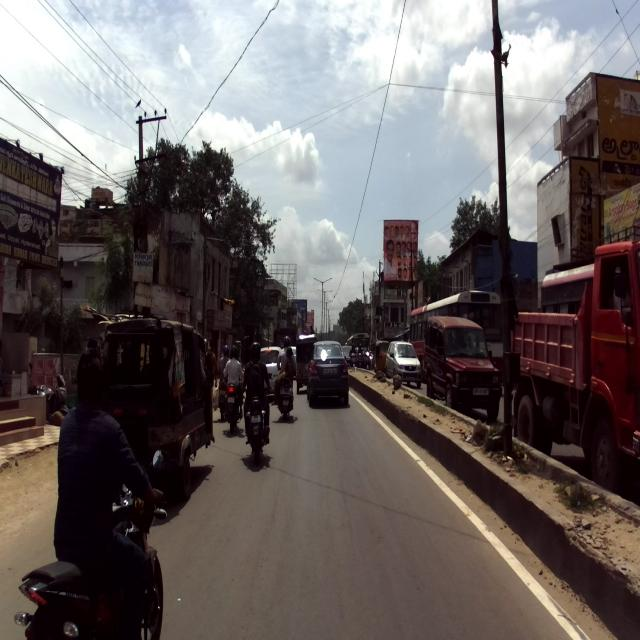Car_Maruti-Suzuki: (305, 338, 352, 409)
Car_Toyota: (423, 314, 502, 420)
autorickshaw: (98, 318, 213, 501)
bus: (541, 222, 640, 330)
motorcycle_bajaj: (18, 485, 175, 639), (243, 374, 274, 469)
truck: (507, 239, 640, 499)
